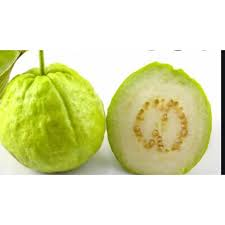guava: (1, 48, 103, 172)
